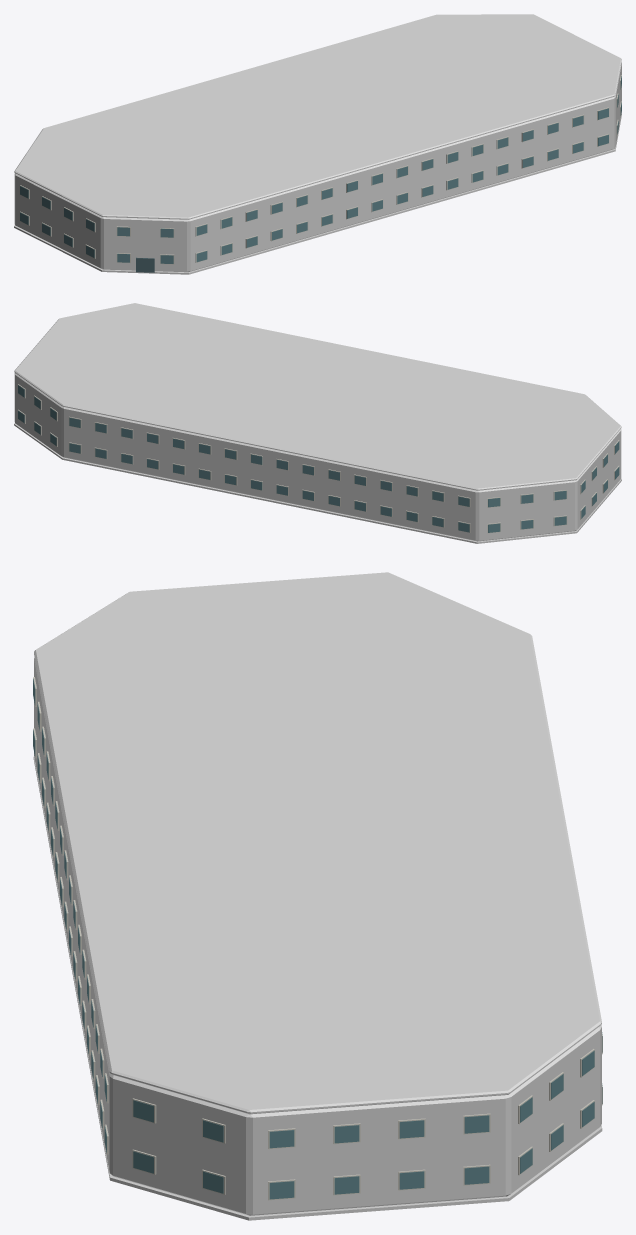
File: seu_pool_reuse_v03.glb
3 views of the same model, one above another, from view 1: azimuth 30°, elevation 25°; view 2: azimuth 150°, elevation 25°; view 3: azimuth 270°, elevation 25° (orthographic). The views are drawn at different scales.
Visible parts, largest first — view 1: SEU_B_OSMWAY_851764288__0005, SEU_B_OSMWAY_851764288__0006, SEU_B_OSMWAY_851764288__0004, SEU_B_OSMWAY_851764288__0003, SEU_B_OSMWAY_851764288__0001; view 2: SEU_B_OSMWAY_851764288__0005, SEU_B_OSMWAY_851764288__0006, SEU_B_OSMWAY_851764288__0004, SEU_B_OSMWAY_851764288__0003, SEU_B_OSMWAY_851764288__0001; view 3: SEU_B_OSMWAY_851764288__0005, SEU_B_OSMWAY_851764288__0006, SEU_B_OSMWAY_851764288__0004, SEU_B_OSMWAY_851764288__0003, SEU_B_OSMWAY_851764288__0001.
Boxes of the visible parts, box(x1,y1,x2,y2) form: SEU_B_OSMWAY_851764288__0005: box(14, 14, 621, 219); SEU_B_OSMWAY_851764288__0006: box(14, 62, 621, 272); SEU_B_OSMWAY_851764288__0004: box(20, 76, 621, 263); SEU_B_OSMWAY_851764288__0003: box(19, 75, 621, 264); SEU_B_OSMWAY_851764288__0001: box(14, 113, 621, 274); SEU_B_OSMWAY_851764288__0005: box(14, 303, 621, 490); SEU_B_OSMWAY_851764288__0006: box(14, 373, 621, 541); SEU_B_OSMWAY_851764288__0004: box(18, 385, 619, 532); SEU_B_OSMWAY_851764288__0003: box(18, 384, 619, 533); SEU_B_OSMWAY_851764288__0001: box(14, 423, 621, 543); SEU_B_OSMWAY_851764288__0005: box(34, 572, 601, 1114); SEU_B_OSMWAY_851764288__0006: box(34, 658, 601, 1215); SEU_B_OSMWAY_851764288__0004: box(33, 679, 602, 1199); SEU_B_OSMWAY_851764288__0003: box(33, 677, 602, 1200); SEU_B_OSMWAY_851764288__0001: box(33, 756, 602, 1220).
Size of the model in its own units: 120 by 11.37 by 53.52.
